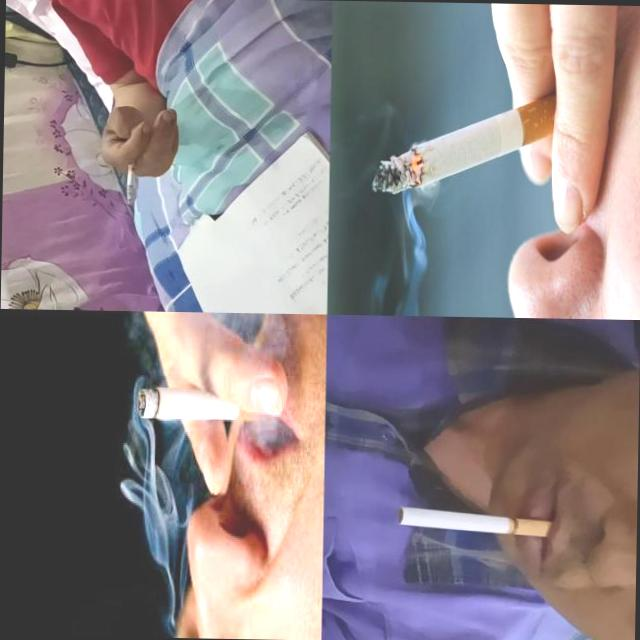smoke: (370, 77, 596, 197), (137, 386, 280, 422), (397, 504, 552, 536), (125, 148, 136, 204)
